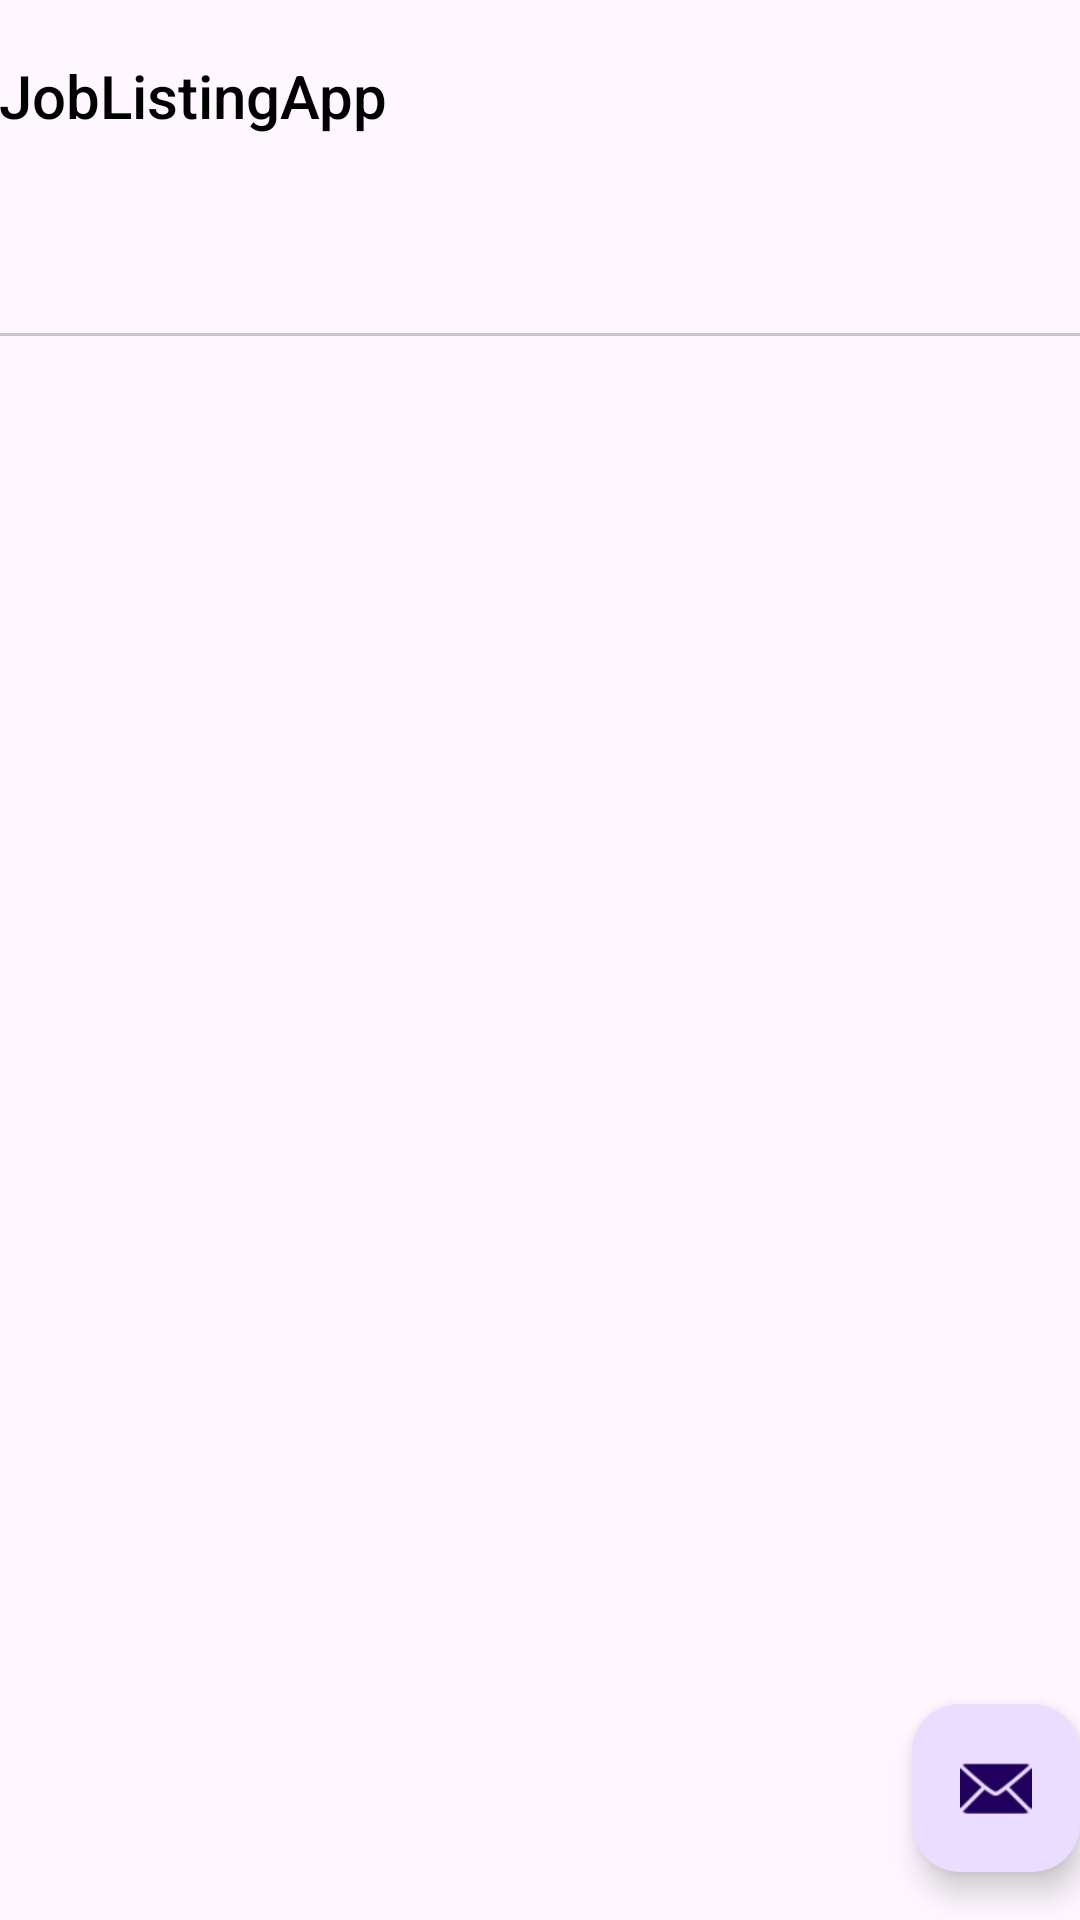

Where icons sit on this 1080px×1920px app screen, as (x1, y1, x2, y2):
email: (912, 1704, 1080, 1872)
